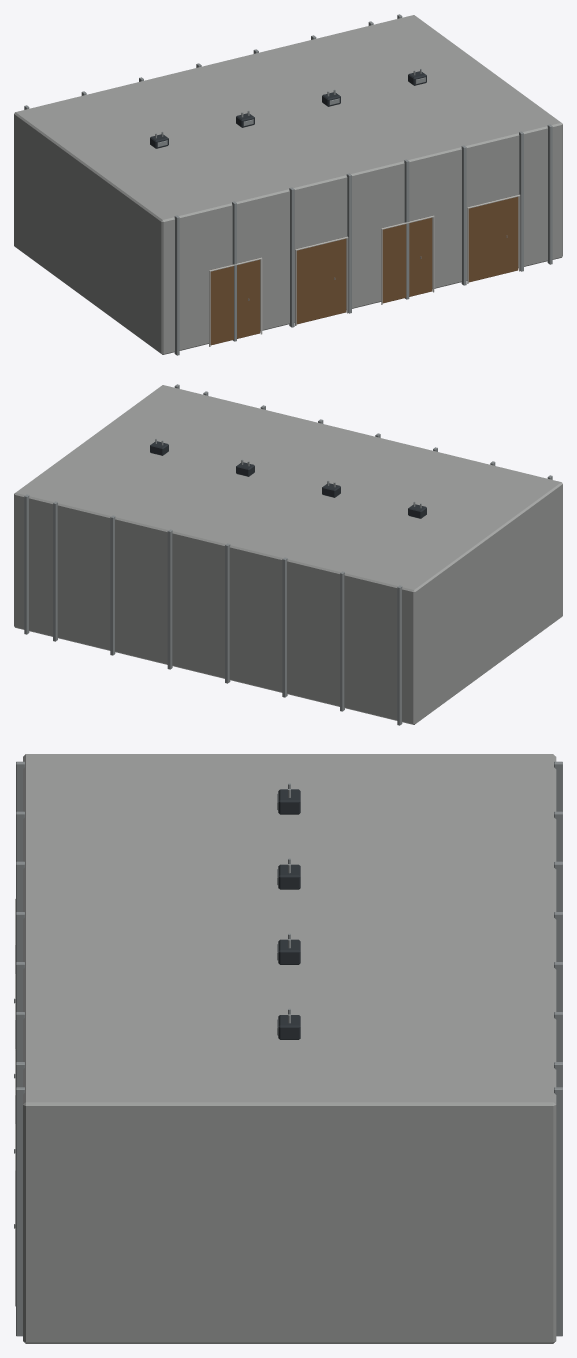
Rendered from Industrial_Warehouse.glb.
3 renders of one model, top to bottom at view 1: azimuth 30°, elevation 25°; view 2: azimuth 150°, elevation 25°; view 3: azimuth 270°, elevation 25°, orthographic. The views are drawn at different scales.
Visible parts, largest first — view 1: Concrete_Weathered, Wood, Metal, Trim, Metal_Dark; view 2: Concrete_Weathered, Metal, Metal_Dark; view 3: Concrete_Weathered, Metal, Metal_Dark.
Boxes of the visible parts, x1,y1,x2,y2 form: Concrete_Weathered: (14,15,562,354); Wood: (210,197,518,345); Metal: (24,14,552,355); Trim: (209,194,520,346); Metal_Dark: (150,71,426,148); Concrete_Weathered: (14,385,562,724); Metal: (24,384,552,725); Metal_Dark: (150,441,426,518); Concrete_Weathered: (23,754,556,1343); Metal: (14,761,562,1336); Metal_Dark: (278,789,300,1039).
Bounding box in the file's own units: 28 × 10.17 × 18.53.
